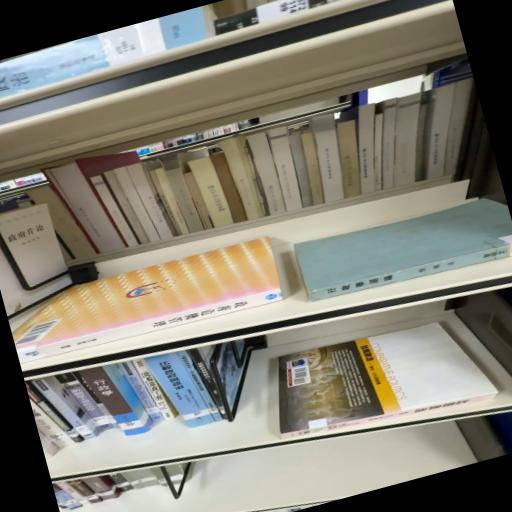flat: (12, 237, 283, 363), (278, 323, 498, 439), (294, 200, 512, 302)
